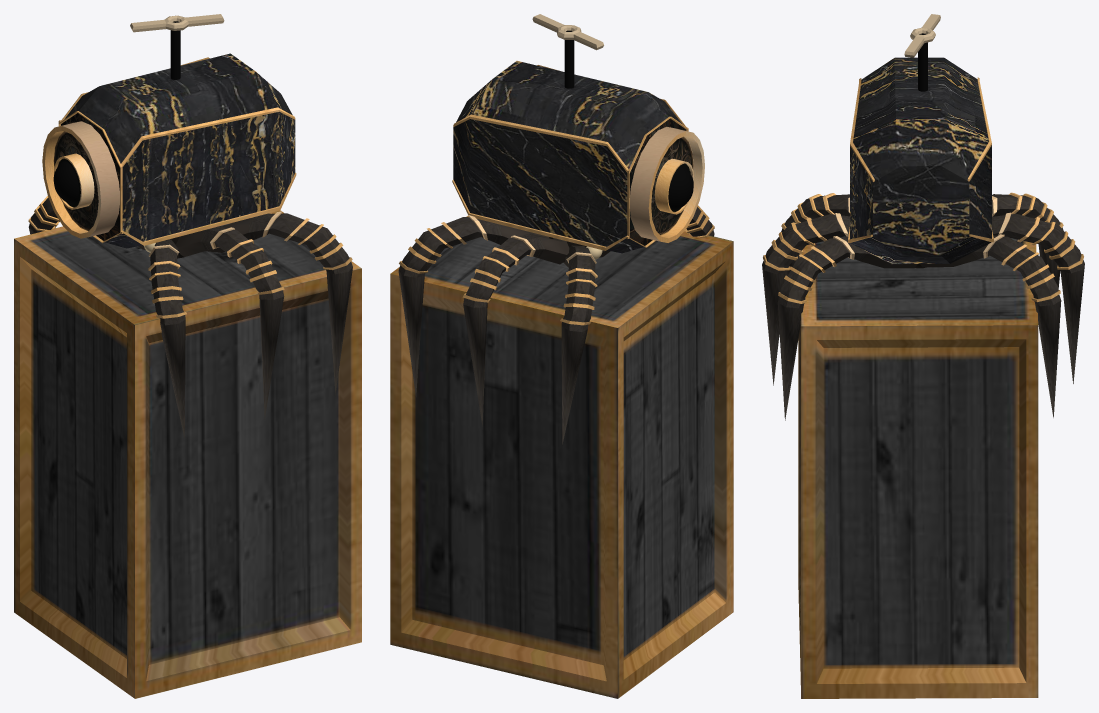
File: FlyingSpider.glb
3 renders of one model, left to right at view 1: azimuth 30°, elevation 25°; view 2: azimuth 150°, elevation 25°; view 3: azimuth 270°, elevation 25°, orthographic.
Parts seen in each view (by area): view 1: flyingSpider; view 2: flyingSpider; view 3: flyingSpider.
Boxes of the visible parts, x1,y1,x2,y2 form: flyingSpider: (14,14,361,698); flyingSpider: (390,14,733,698); flyingSpider: (762,14,1084,698).
Bounding box in the file's own units: 0.5718 × 1.35 × 0.6535.
Materials: 14 (9 with a texture image).
